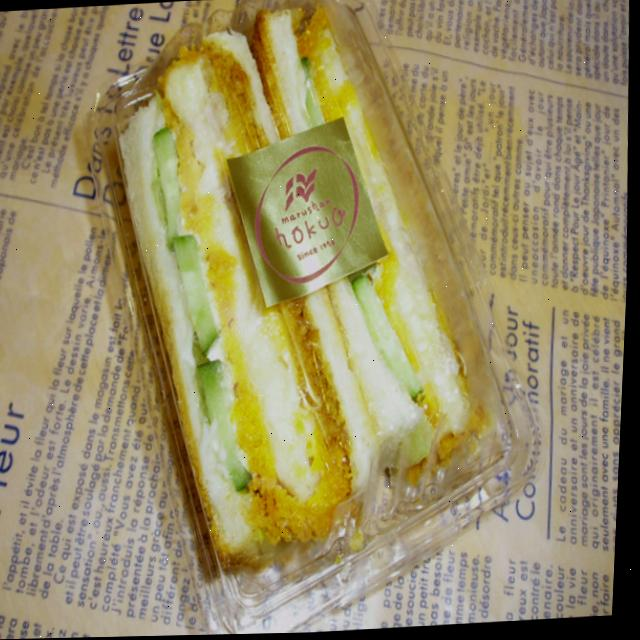三明治: (99, 0, 519, 553)
